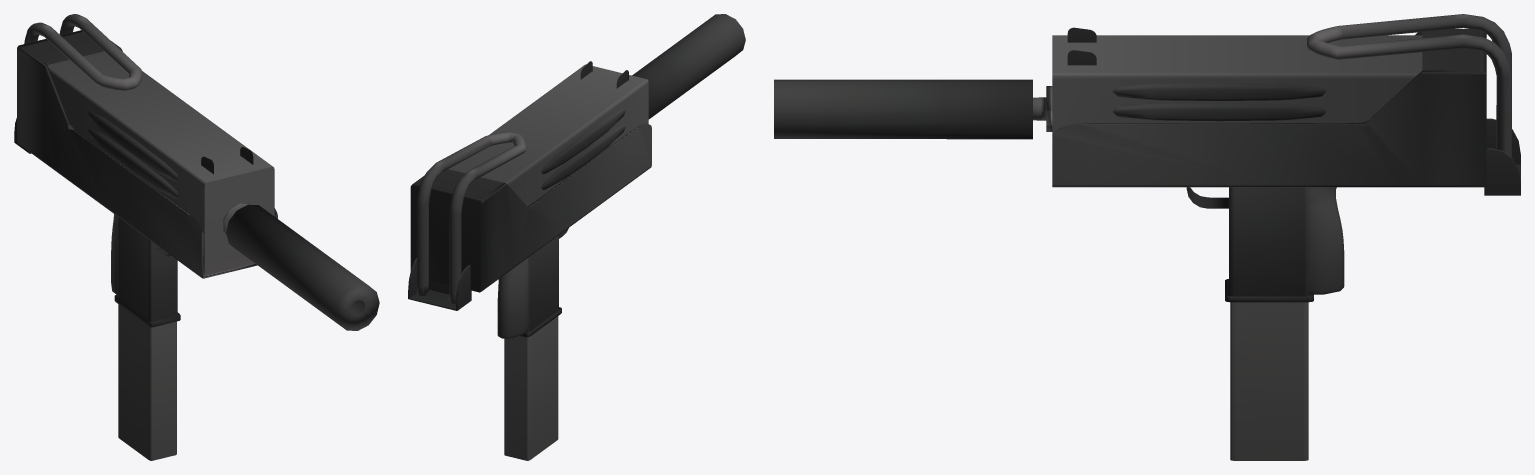
Rendered from smg.fbx.
The picture shows the model from 3 angles, left to right: view 1: azimuth 30°, elevation 25°; view 2: azimuth 150°, elevation 25°; view 3: azimuth 270°, elevation 25°; orthographic projection. The views are drawn at different scales.
Parts seen in each view (by area): view 1: Cube; view 2: Cube; view 3: Cube.
Part boxes in pixels (x1,y1,x2,y2): Cube: (14,14,379,460); Cube: (408,14,745,460); Cube: (774,14,1520,460).
Size of the model in its own units: 11.08 by 48.81 by 77.14.
